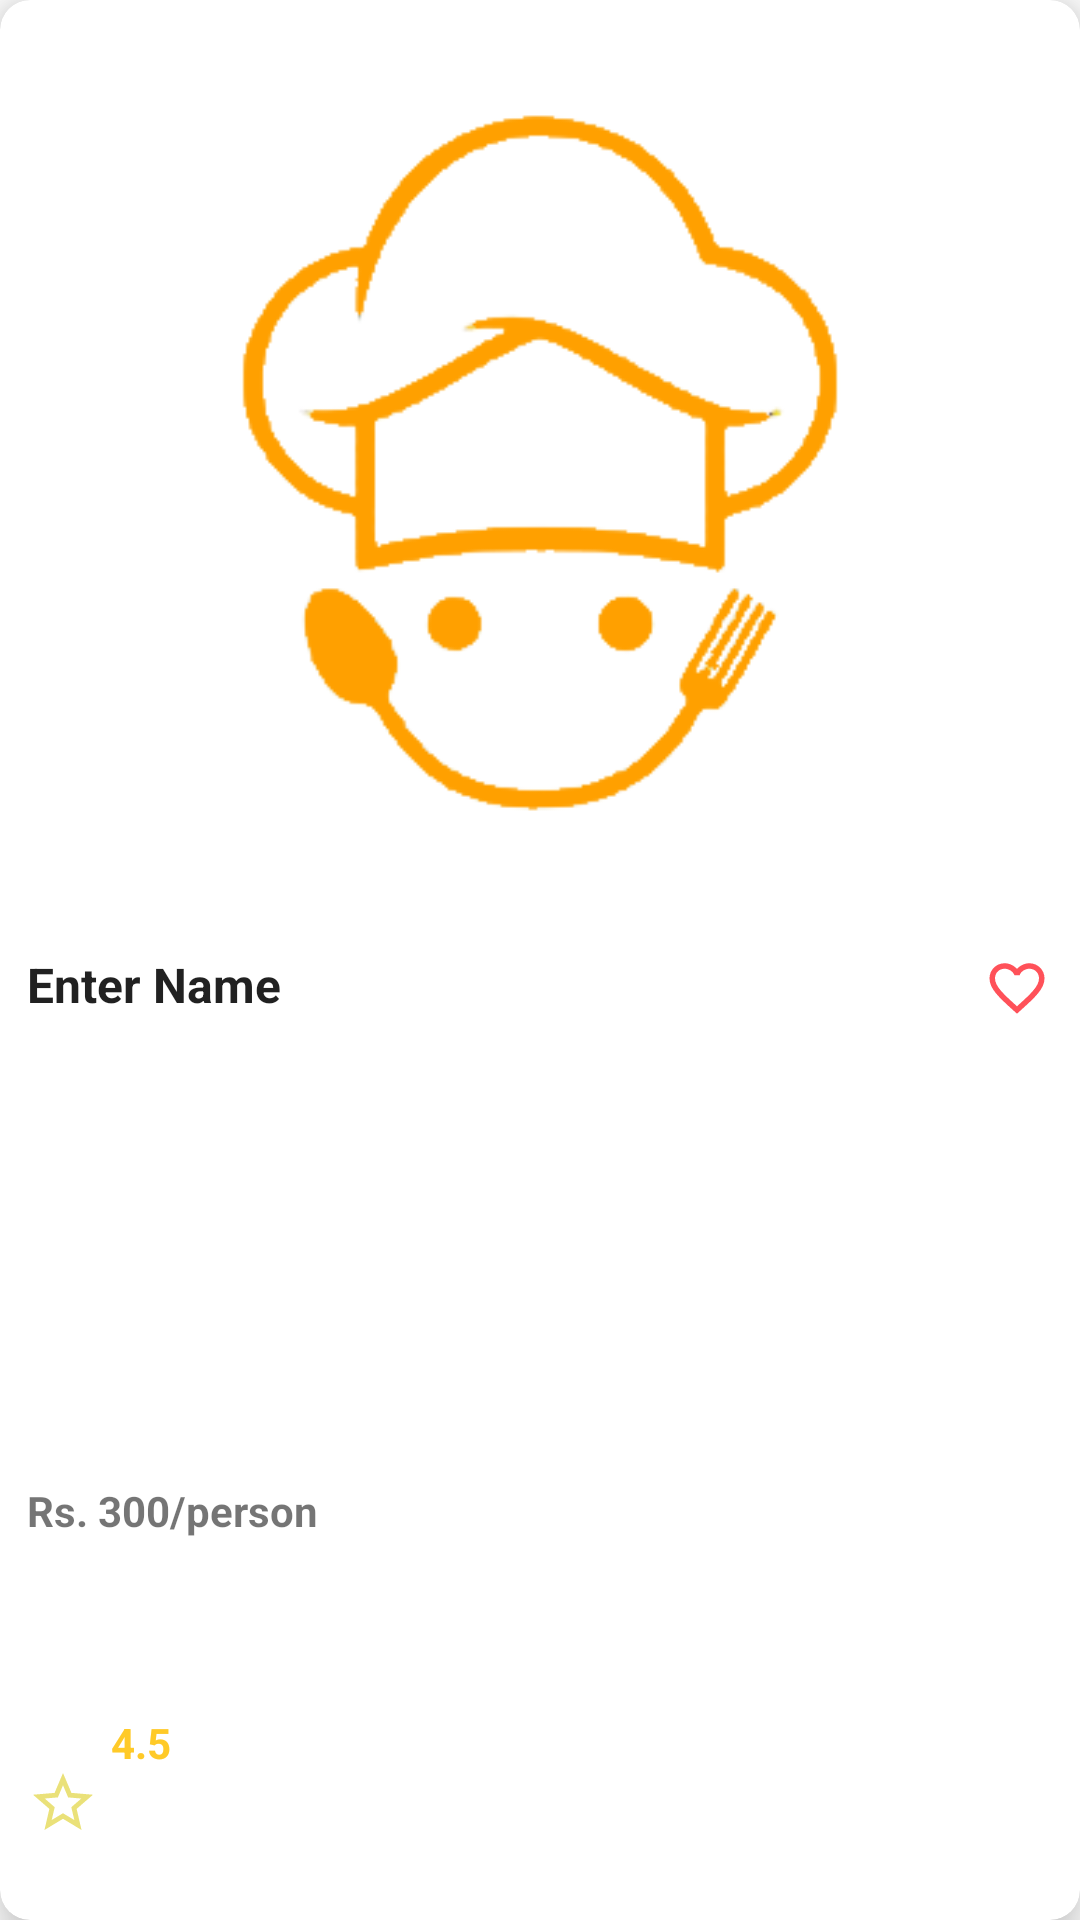

Icons on this 1080w x 1920h Android screen, each with its box as {"x1": x1, "y1": y1, "x2": x2, "y2": y2}:
Favourite Restaurant: {"x1": 989, "y1": 963, "x2": 1045, "y2": 1014}
